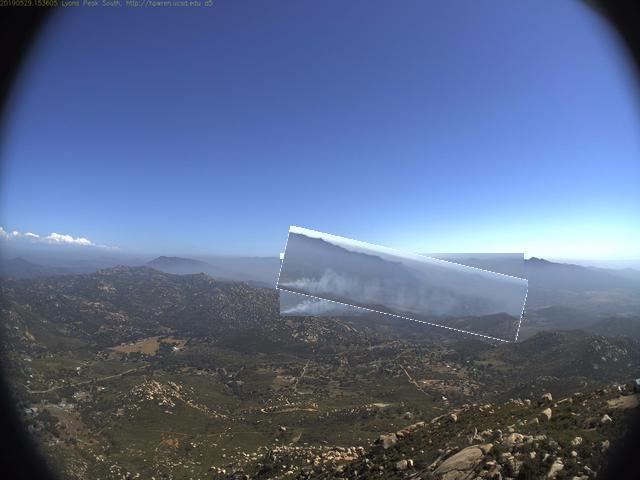smoke: (279, 241, 528, 331)
